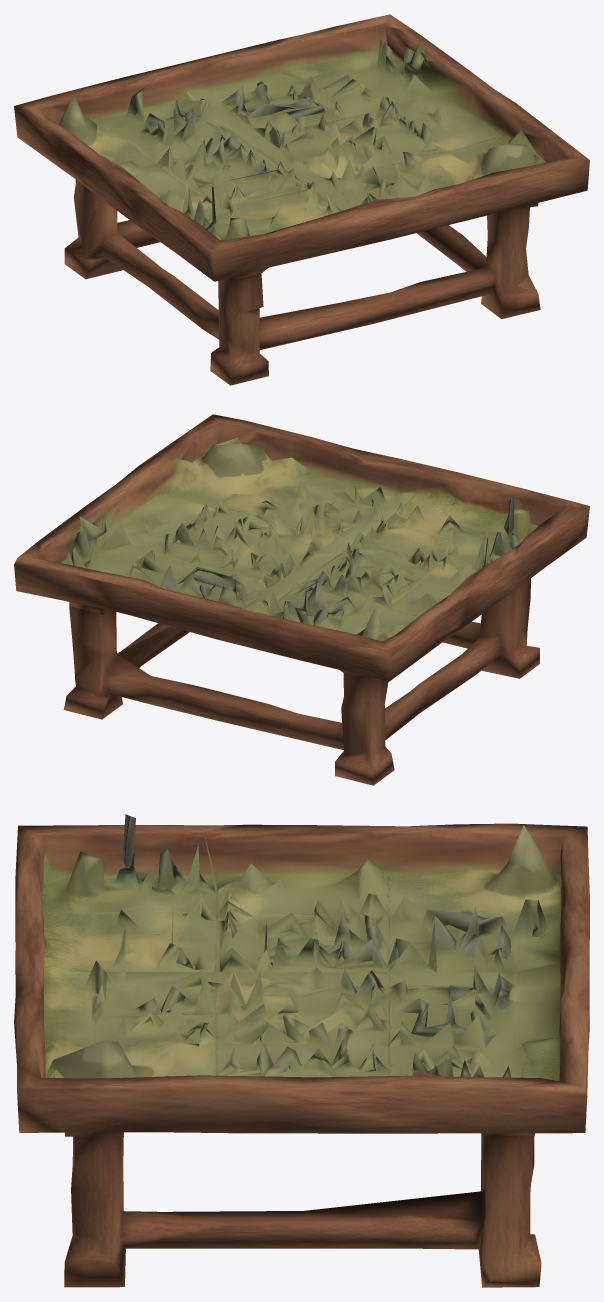
Rendered from sand_table.glb.
The picture shows the model from 3 angles, top to bottom: view 1: azimuth 30°, elevation 25°; view 2: azimuth 150°, elevation 25°; view 3: azimuth 270°, elevation 25°; orthographic projection. The views are drawn at different scales.
Parts seen in each view (by area): view 1: tripo_node_2a708842-9cb6-4089-b5bb-1f46d164e281; view 2: tripo_node_2a708842-9cb6-4089-b5bb-1f46d164e281; view 3: tripo_node_2a708842-9cb6-4089-b5bb-1f46d164e281.
Part boxes in pixels (left/top/right/bottom): tripo_node_2a708842-9cb6-4089-b5bb-1f46d164e281: left=14, top=14, right=589, bottom=385; tripo_node_2a708842-9cb6-4089-b5bb-1f46d164e281: left=14, top=414, right=589, bottom=785; tripo_node_2a708842-9cb6-4089-b5bb-1f46d164e281: left=14, top=814, right=589, bottom=1287.
Bounding box in the file's own units: 2 × 0.9143 × 1.84.
Materials: 1 (1 with a texture image).
